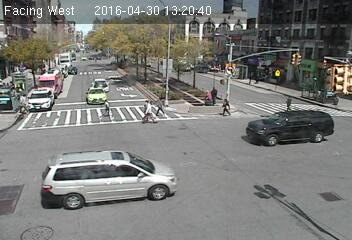neg: (242, 172, 271, 212), (41, 166, 69, 203), (7, 182, 32, 215), (124, 152, 148, 184), (317, 58, 340, 88), (320, 173, 342, 203), (4, 85, 26, 114), (17, 28, 37, 54), (45, 57, 64, 83), (245, 63, 264, 88), (219, 53, 236, 76), (96, 98, 113, 120), (284, 42, 300, 63), (100, 31, 115, 51), (34, 98, 49, 117), (155, 54, 167, 71)
pos: (138, 101, 157, 127), (221, 98, 235, 117), (155, 93, 169, 110), (282, 95, 293, 110), (212, 85, 222, 99), (203, 91, 212, 102)
